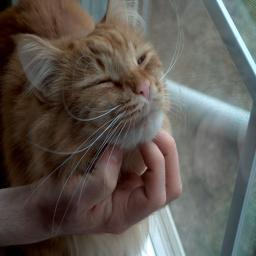catnose: (135, 78, 151, 102)
